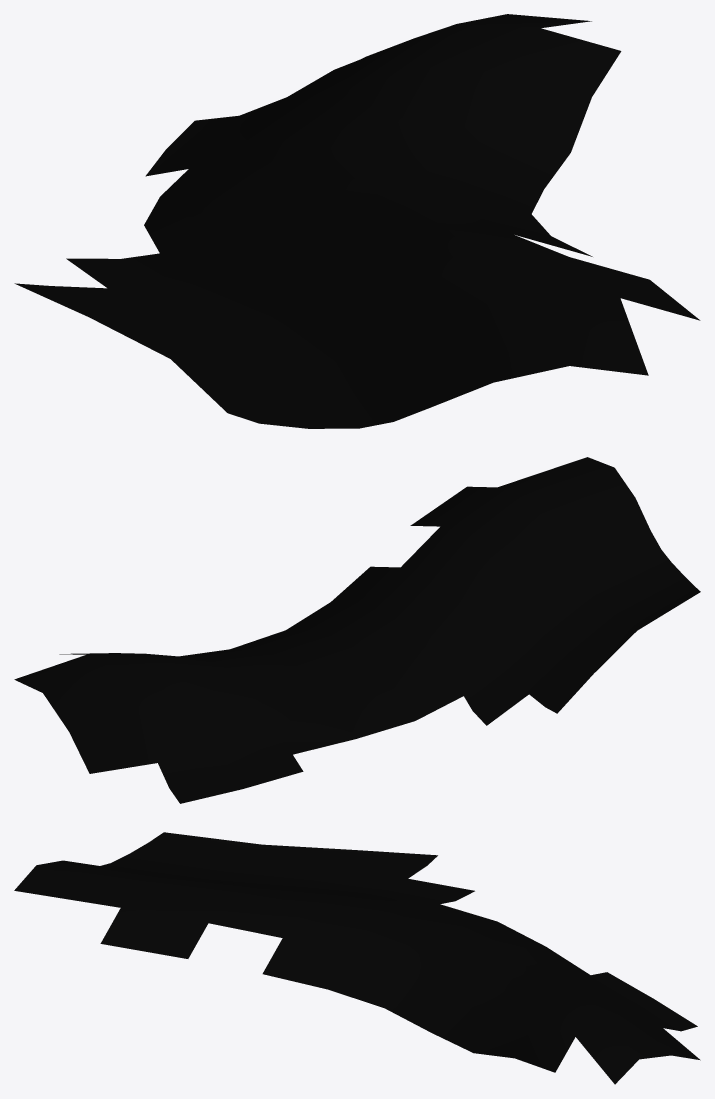
Rendered from HTOWN01_TREESHADOWS18.fbx.
3 renders of one model, top to bottom at view 1: azimuth 30°, elevation 25°; view 2: azimuth 150°, elevation 25°; view 3: azimuth 270°, elevation 25°, orthographic. The views are drawn at different scales.
Parts seen in each view (by area): view 1: HTOWN01_TREESHADOWS18; view 2: HTOWN01_TREESHADOWS18; view 3: HTOWN01_TREESHADOWS18.
Part boxes in pixels (box(x1,y1,x2,y2)): HTOWN01_TREESHADOWS18: box(14, 14, 700, 428); HTOWN01_TREESHADOWS18: box(14, 457, 700, 803); HTOWN01_TREESHADOWS18: box(14, 832, 700, 1084).
Bounding box in the file's own units: 339972 × 81605 × 447167.
Materials: 1 (1 with a texture image).
